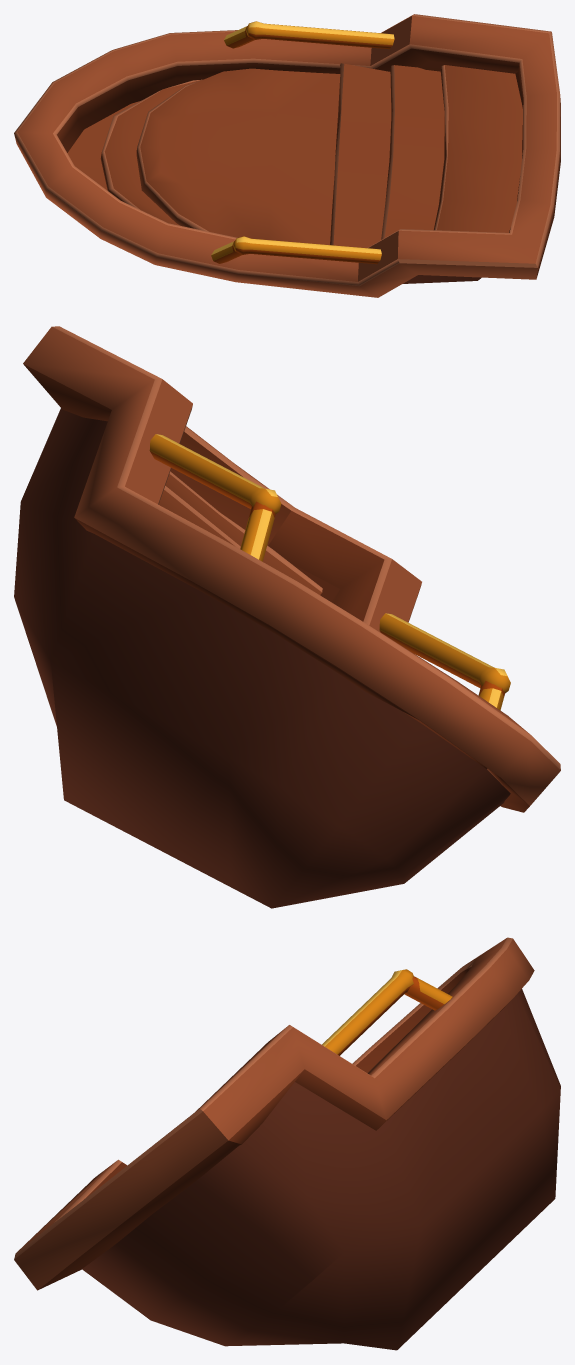
Rendered from Ship_Wrek (2).fbx.
3 views of the same model, one above another, from view 1: azimuth 30°, elevation 25°; view 2: azimuth 150°, elevation 25°; view 3: azimuth 270°, elevation 25° (orthographic). The views are drawn at different scales.
Parts seen in each view (by area): view 1: Color_01; view 2: Color_01; view 3: Color_01.
Boxes of the visible parts, left/top/right/bottom form: Color_01: left=14, top=14, right=560, bottom=297; Color_01: left=14, top=326, right=560, bottom=908; Color_01: left=14, top=937, right=560, bottom=1350.
Size of the model in its own units: 24.19 by 13.79 by 20.87.
1 material, 1 textured.
